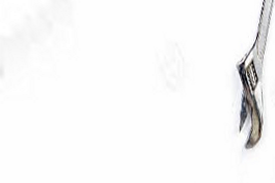Wrench: (226, 1, 272, 153)
